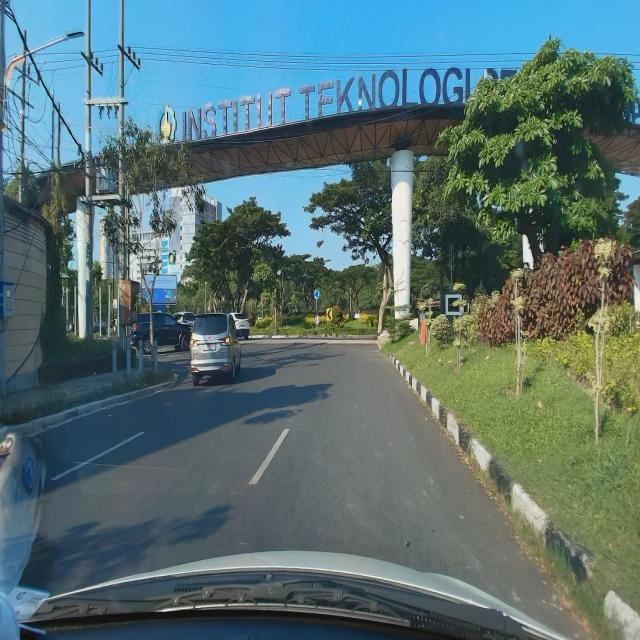car: (189, 312, 241, 387)
